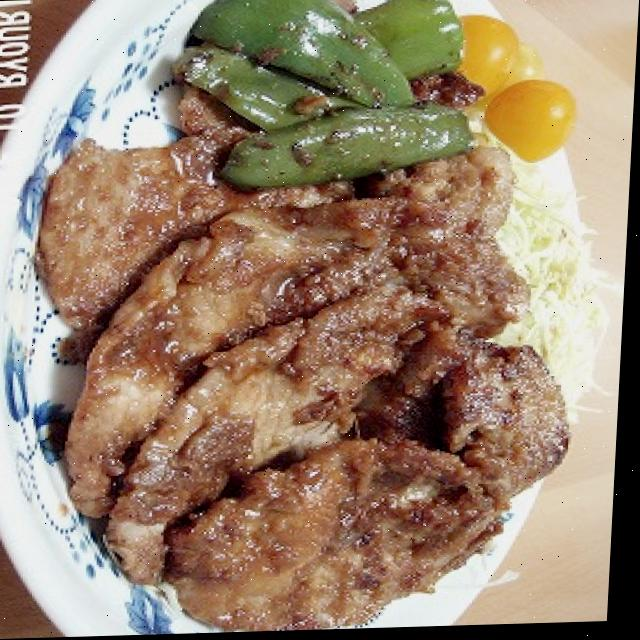猪肉菜式: (32, 0, 605, 639)
